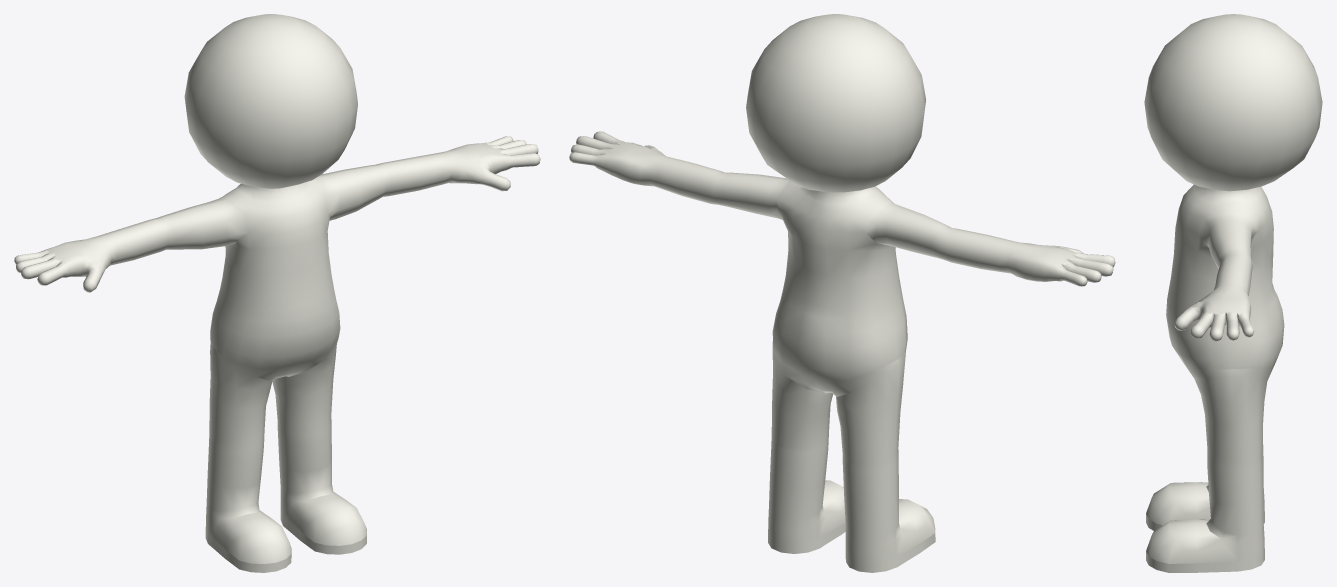
Rendered from stickman.fbx.
3 renders of one model, left to right at view 1: azimuth 30°, elevation 25°; view 2: azimuth 150°, elevation 25°; view 3: azimuth 270°, elevation 25°, orthographic. The views are drawn at different scales.
Visible parts, largest first — view 1: Basic-Stickman; view 2: Basic-Stickman; view 3: Basic-Stickman.
Boxes of the visible parts, bbox=[...] form: Basic-Stickman: bbox=[14, 14, 540, 572]; Basic-Stickman: bbox=[569, 14, 1115, 572]; Basic-Stickman: bbox=[1144, 14, 1322, 572].
Size of the model in its own units: 267 by 78.25 by 252.
